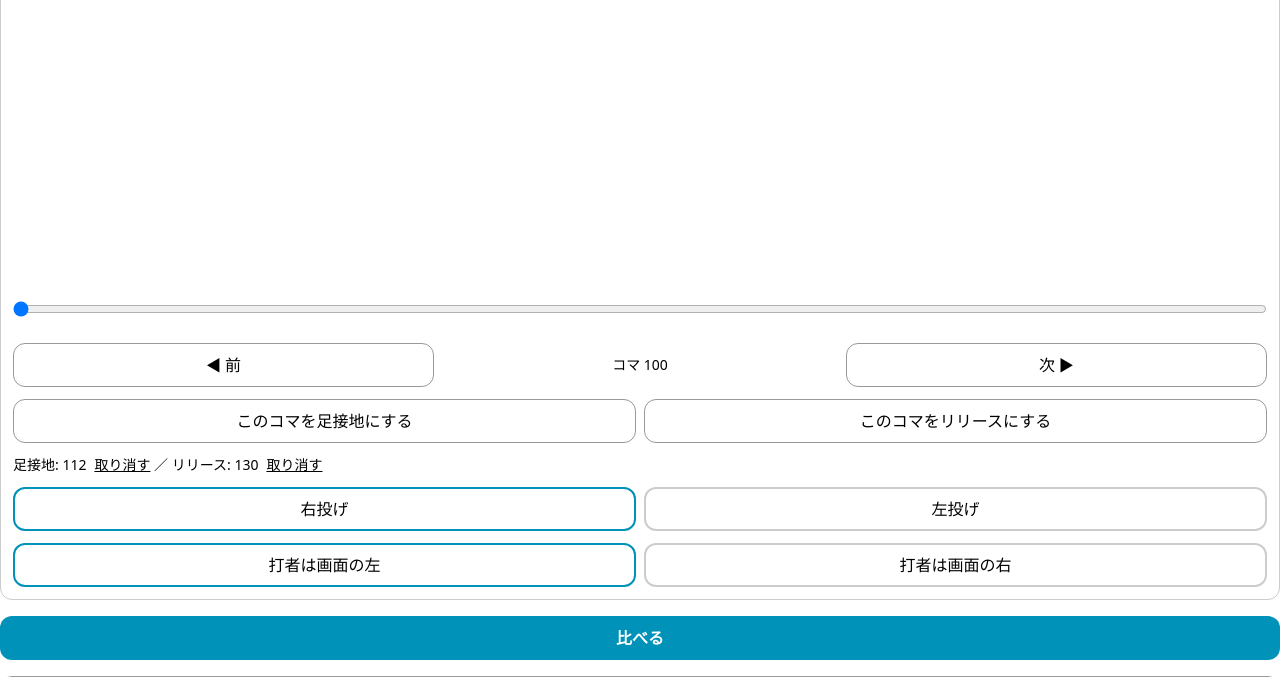
Scenario: CompareFlow › 比べられないときは画面内に理由を出す
(page scrolled)
Click the button "比べる" at (640, 638), box [0,616,1279,660]
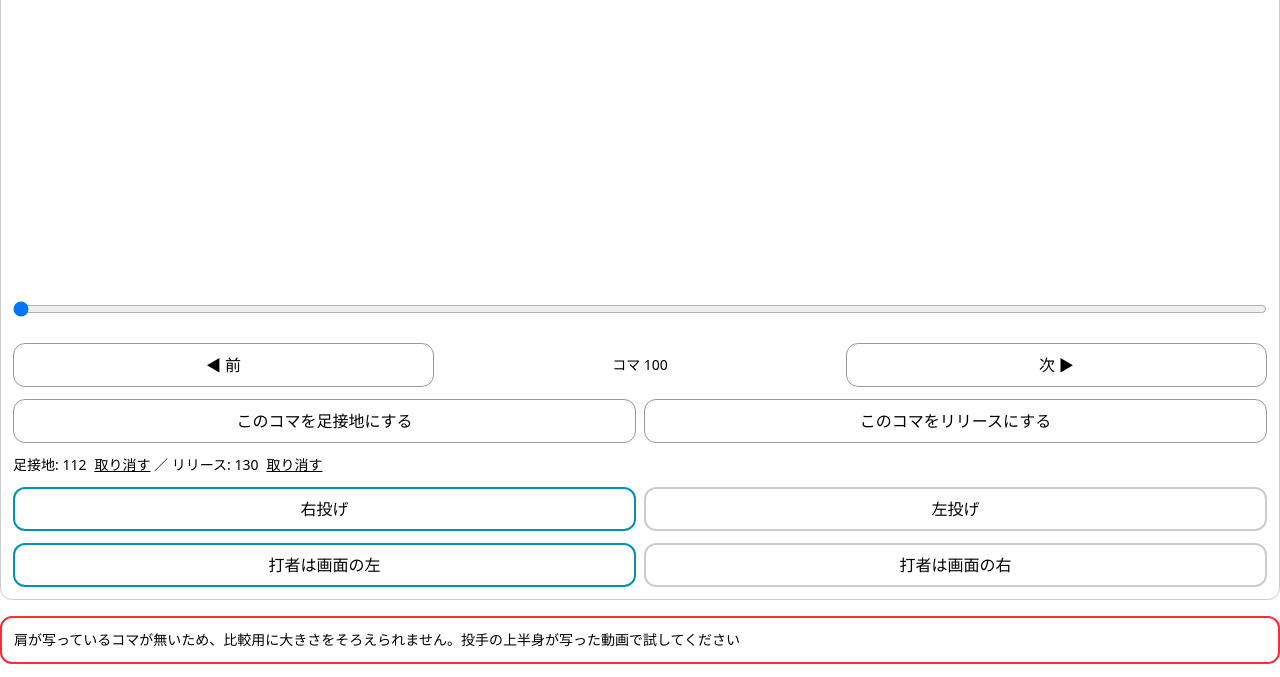
Expected: the message shows "肩", [0,616,1279,664]
